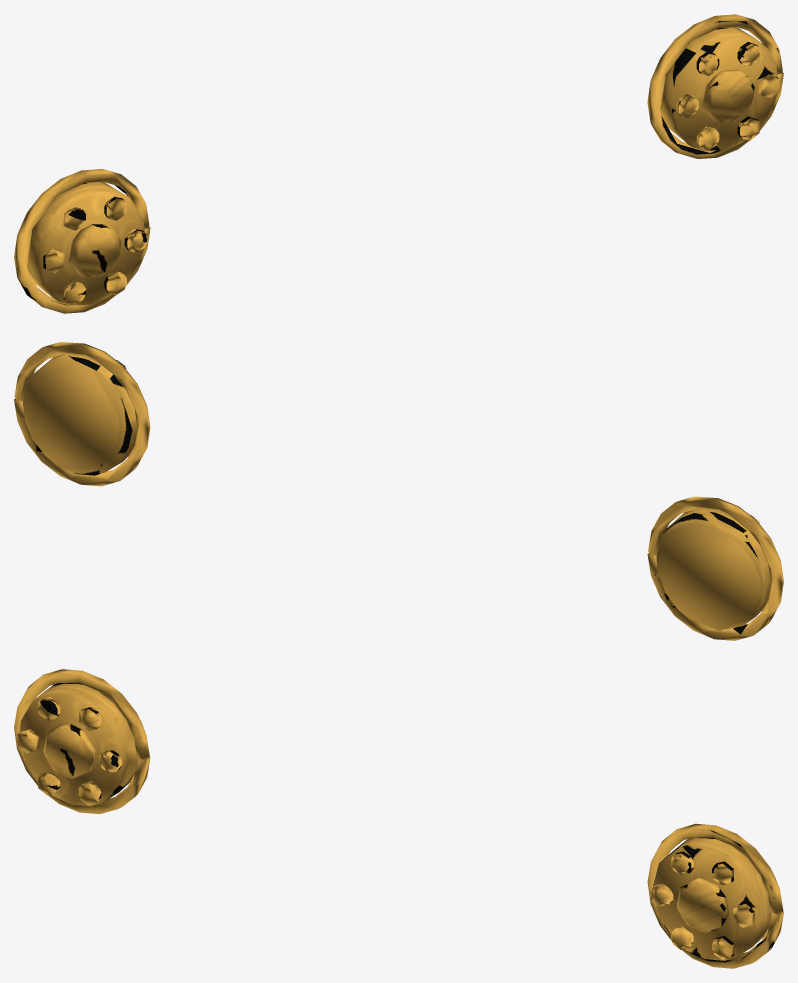
Rendered from Atalanta_Capa_Oro.fbx.
The picture shows the model from 3 angles, top to bottom: view 1: azimuth 30°, elevation 25°; view 2: azimuth 150°, elevation 25°; view 3: azimuth 330°, elevation 25°; orthographic projection.
Visible parts, largest first — view 1: Atalanta_Capa_Oro; view 2: Atalanta_Capa_Oro; view 3: Atalanta_Capa_Oro.
Boxes of the visible parts, left/top/right/bottom form: Atalanta_Capa_Oro: left=14, top=14, right=783, bottom=313; Atalanta_Capa_Oro: left=14, top=342, right=783, bottom=640; Atalanta_Capa_Oro: left=14, top=669, right=783, bottom=968.
Bounding box in the file's own units: 2 × 0.3499 × 0.1039.
